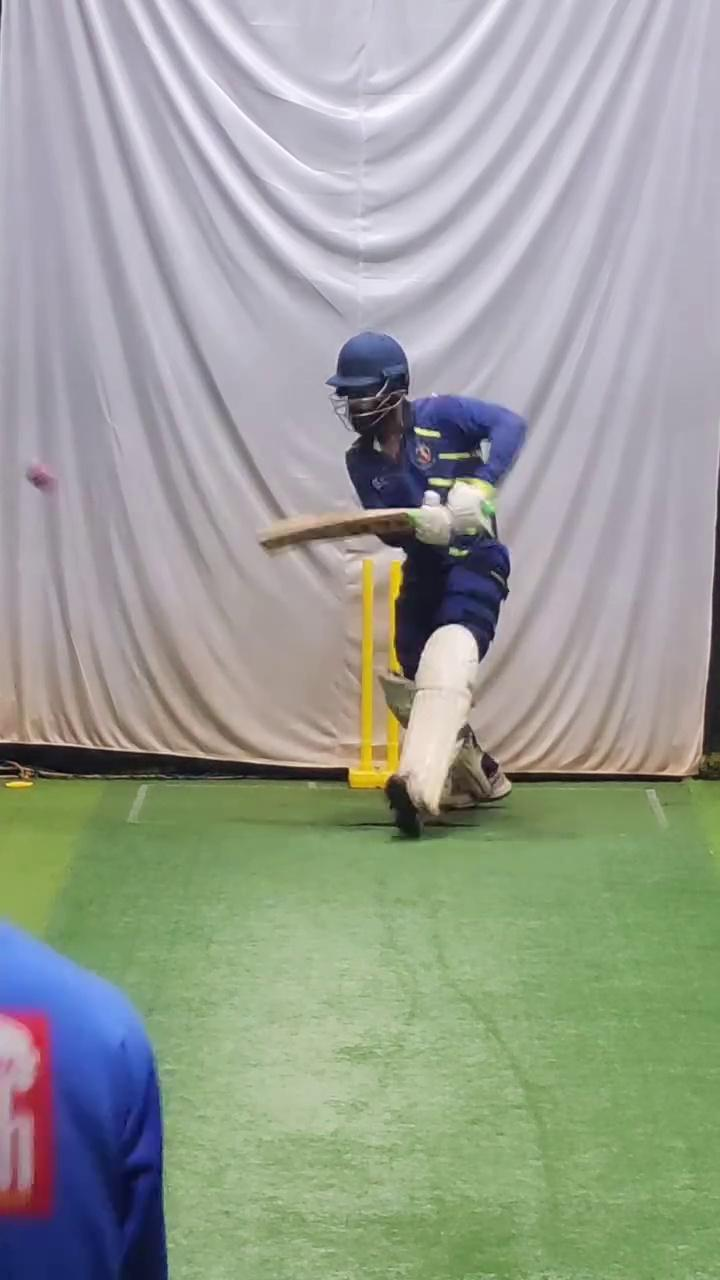bat: (249, 494, 417, 555)
